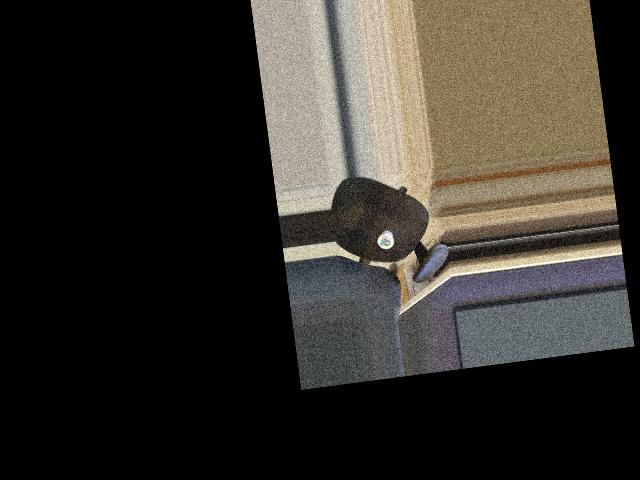cotage: (372, 225, 395, 251)
